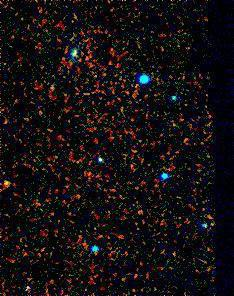star: (0, 170, 21, 200)
